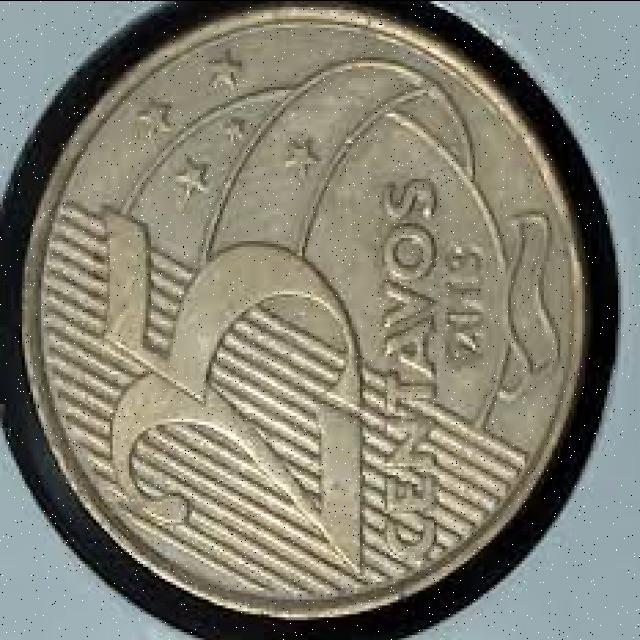25 cent: (24, 9, 576, 608)
